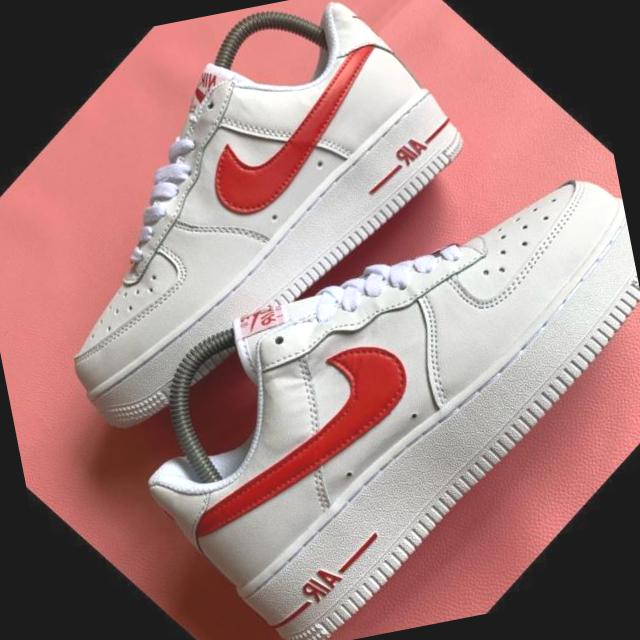nike_original_airforce: (30, 32, 640, 640), (0, 0, 537, 503)
